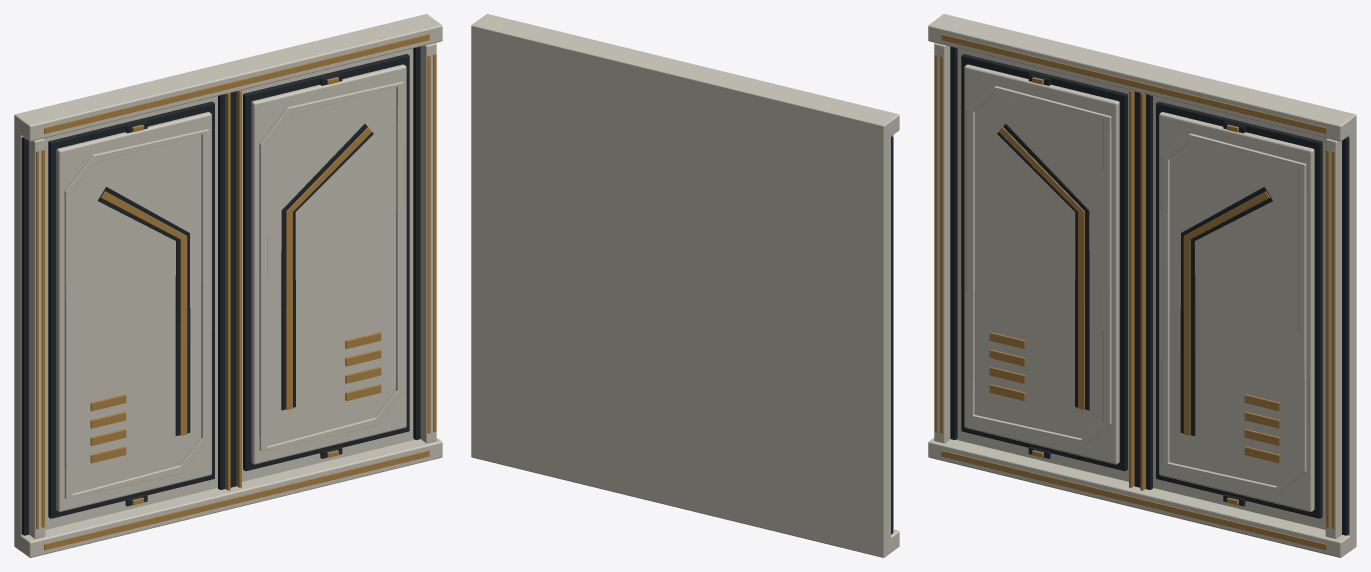
The model's file is SM_Aurelion_KIT_Z10ChamberCoffer.fbx.
3 views of the same model, side by side, from view 1: azimuth 30°, elevation 25°; view 2: azimuth 150°, elevation 25°; view 3: azimuth 330°, elevation 25° (orthographic).
Visible parts, largest first — view 1: SM_Aurelion_KIT_Z10ChamberCoffer; view 2: SM_Aurelion_KIT_Z10ChamberCoffer; view 3: SM_Aurelion_KIT_Z10ChamberCoffer.
Boxes of the visible parts, x1,y1,x2,y2 form: SM_Aurelion_KIT_Z10ChamberCoffer: (14,14,442,557); SM_Aurelion_KIT_Z10ChamberCoffer: (471,14,899,557); SM_Aurelion_KIT_Z10ChamberCoffer: (928,14,1356,557).
Size of the model in its own units: 399 by 27.9 by 399.
